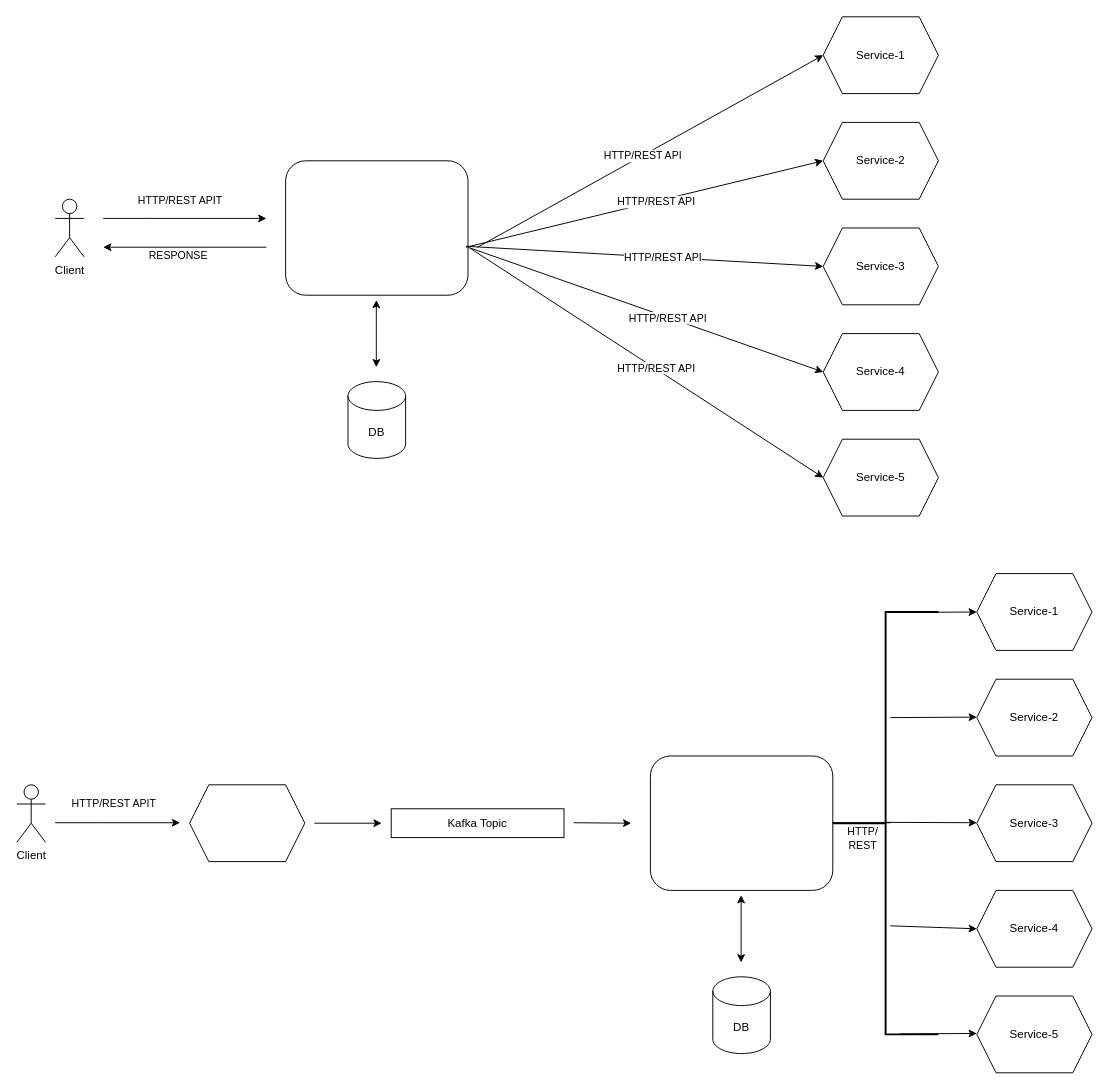
Some shapes in this 1109 by 1090 pixel diagram are drawn without their labels. Each missing label, with the box of its shape:
Producer: (189, 784, 305, 862)
Spring Batch Job: (285, 160, 468, 295)
Spring Batch Job & Subscribe Topic: (649, 755, 833, 890)
